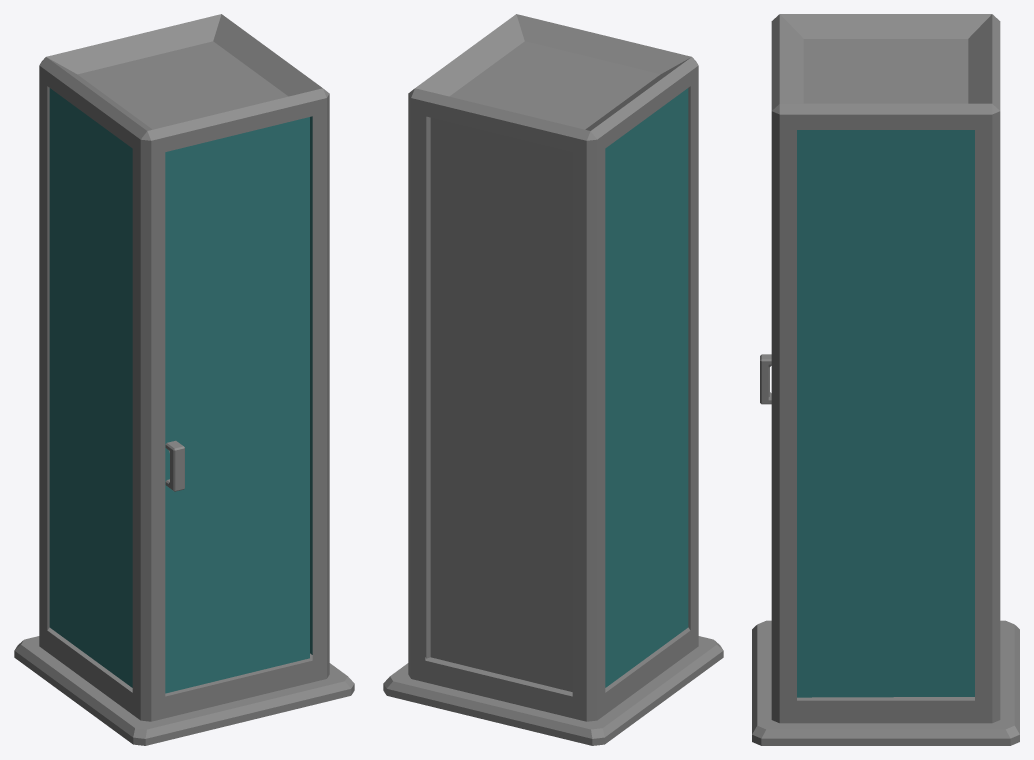
Rendered from Shower.glb.
3 views of the same model, side by side, from view 1: azimuth 30°, elevation 25°; view 2: azimuth 150°, elevation 25°; view 3: azimuth 270°, elevation 25° (orthographic). The views are drawn at different scales.
Parts seen in each view (by area): view 1: Shower Door, Shower Door.001; view 2: Shower Door; view 3: Shower Door, Shower Door.001.
Part boxes in pixels (x1,y1,x2,y2): Shower Door: (14,14,354,745); Shower Door.001: (165,117,309,693); Shower Door: (383,14,723,745); Shower Door: (752,14,1019,745); Shower Door.001: (760,354,771,404).
Bounding box in the file's own units: 349 × 906 × 349.
